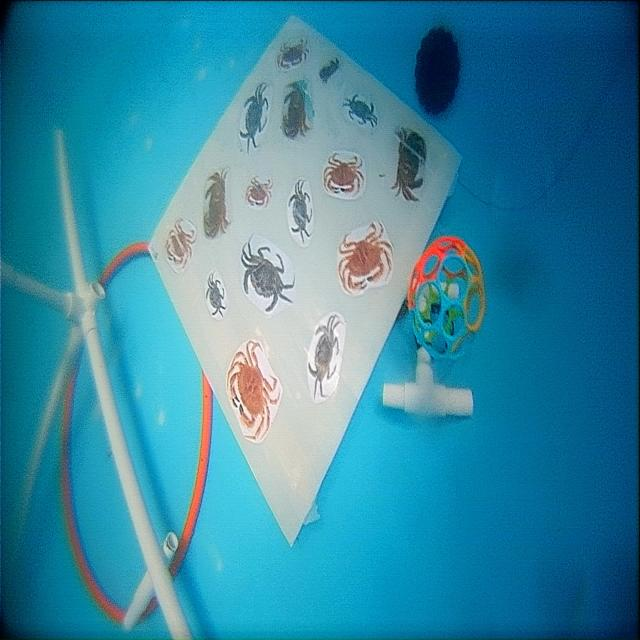GreenCrab: (241, 241, 295, 312), (308, 314, 340, 398), (239, 83, 268, 152), (288, 179, 312, 244), (343, 94, 377, 127), (206, 274, 226, 316)
